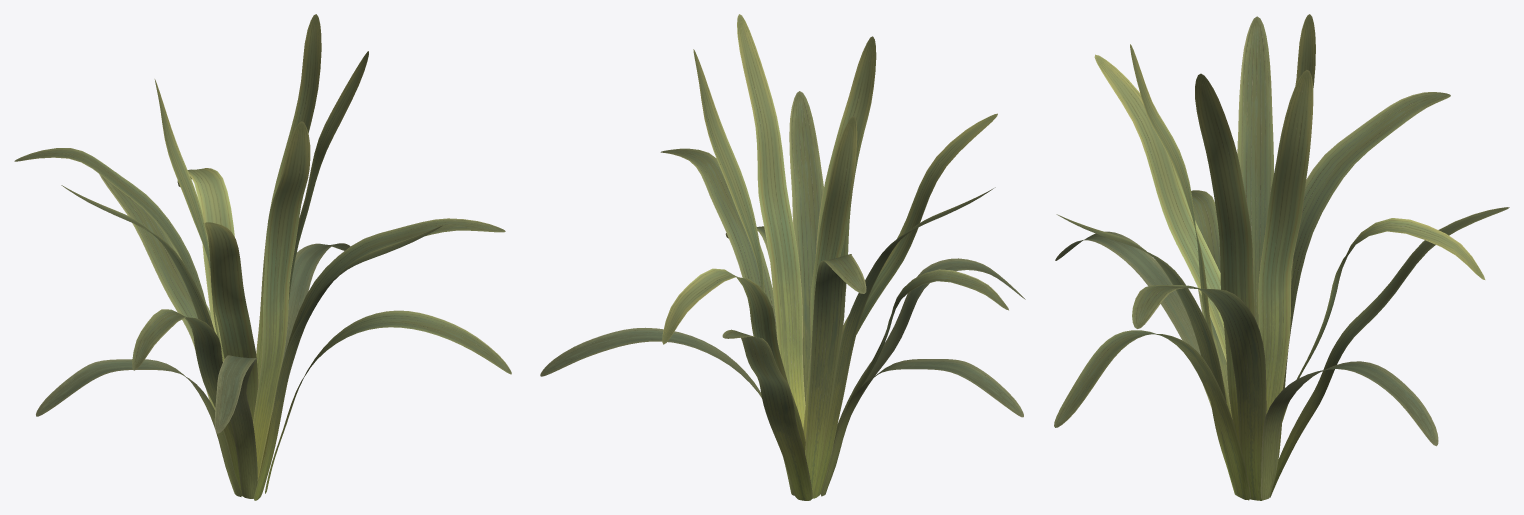
Rendered from bromelia2.fbx.
3 renders of one model, left to right at view 1: azimuth 30°, elevation 25°; view 2: azimuth 150°, elevation 25°; view 3: azimuth 270°, elevation 25°, orthographic. The views are drawn at different scales.
Parts seen in each view (by area): view 1: MH_Bromeliad_02_Shape; view 2: MH_Bromeliad_02_Shape; view 3: MH_Bromeliad_02_Shape.
Boxes of the visible parts, bbox=[...] form: MH_Bromeliad_02_Shape: bbox=[14, 14, 511, 500]; MH_Bromeliad_02_Shape: bbox=[540, 14, 1025, 500]; MH_Bromeliad_02_Shape: bbox=[1054, 14, 1509, 500].
Size of the model in its own units: 61.77 by 62.75 by 54.48.
1 material, 1 textured.
